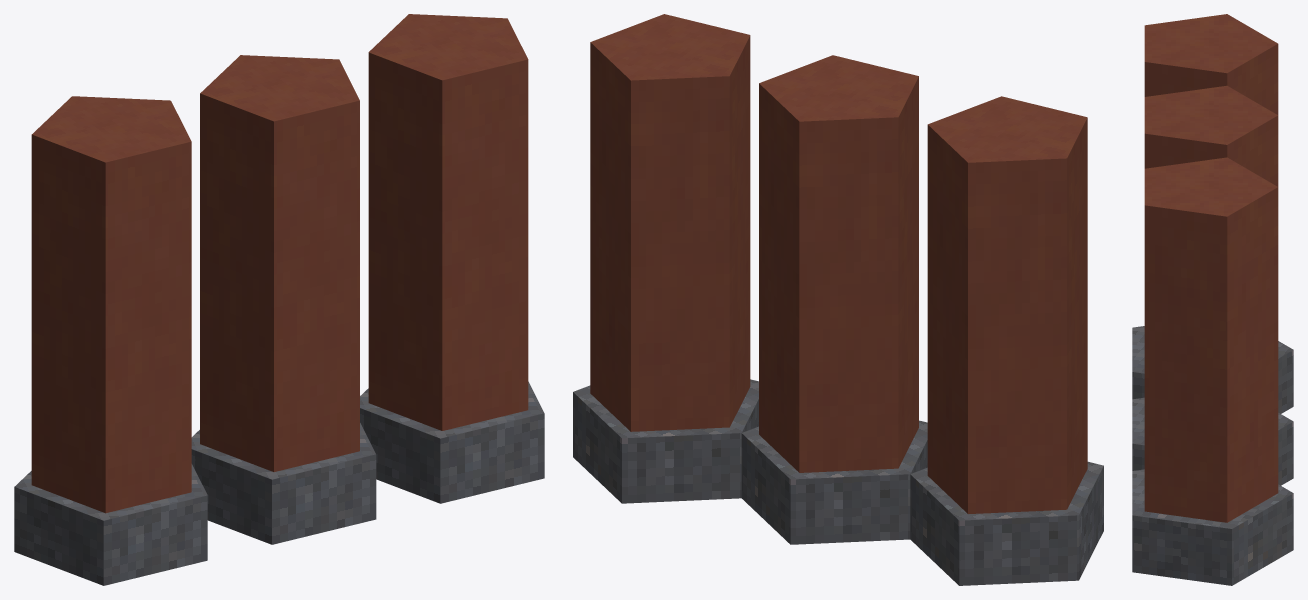
File: sg_ammo.glb
3 renders of one model, left to right at view 1: azimuth 30°, elevation 25°; view 2: azimuth 150°, elevation 25°; view 3: azimuth 270°, elevation 25°, orthographic. The views are drawn at different scales.
Parts seen in each view (by area): view 1: ShotgunAmmo; view 2: ShotgunAmmo; view 3: ShotgunAmmo.
Boxes of the visible parts, box(x1,y1,x2,y2) form: ShotgunAmmo: box(14, 14, 544, 585); ShotgunAmmo: box(573, 14, 1103, 585); ShotgunAmmo: box(1132, 14, 1293, 585).
Size of the model in its own units: 0.2486 by 0.1956 by 0.0788.
1 material, 1 textured.
